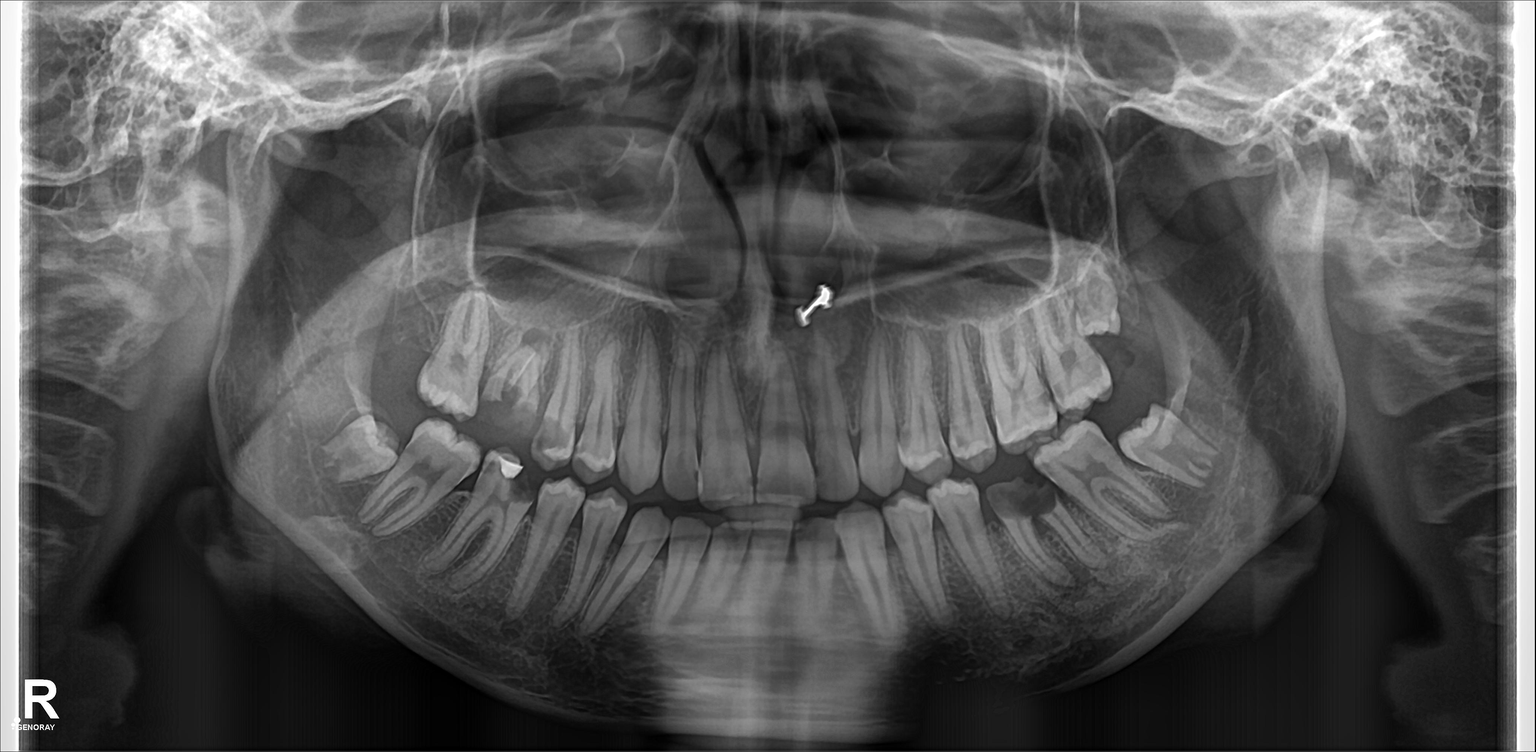Dental Caries: (482, 374, 535, 429), (985, 486, 1059, 517), (508, 456, 533, 505), (536, 421, 569, 453)
Impacted Third Molar: (1138, 398, 1229, 477), (320, 432, 393, 484), (1080, 274, 1140, 335)
Missing Tooth: (369, 298, 422, 390)
